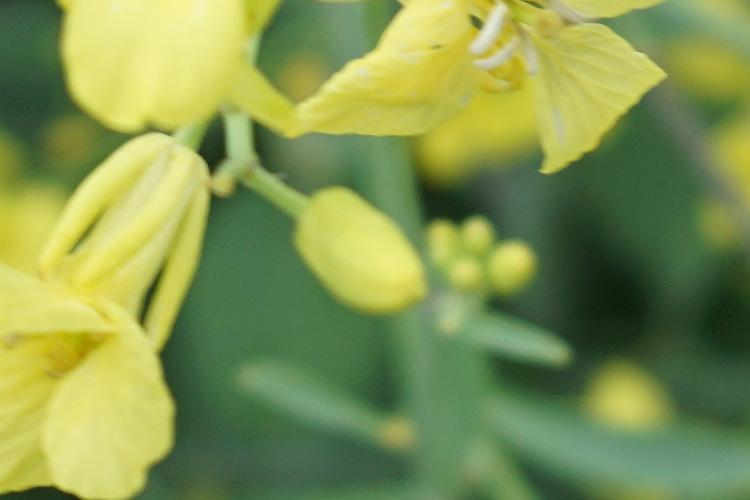bud: (304, 185, 426, 325), (489, 243, 545, 298), (461, 218, 499, 258), (451, 260, 484, 295), (430, 222, 456, 260)
yellow: (19, 143, 219, 480), (311, 9, 678, 182), (81, 9, 303, 134)
